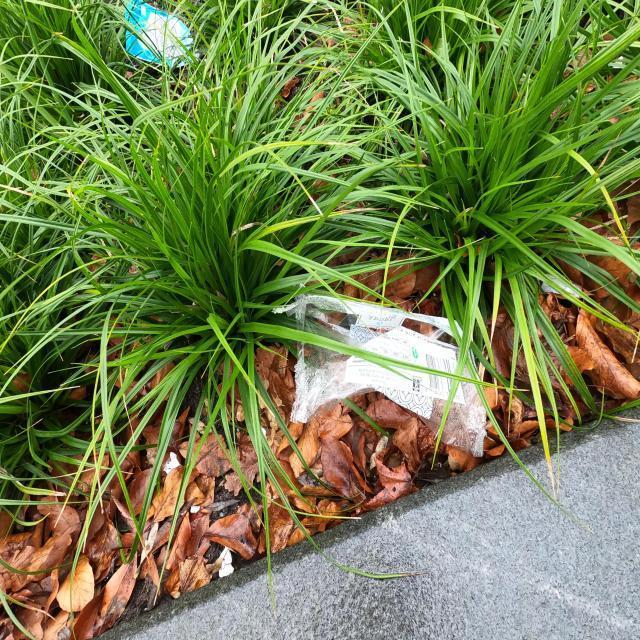Plastic: (268, 280, 490, 460)
